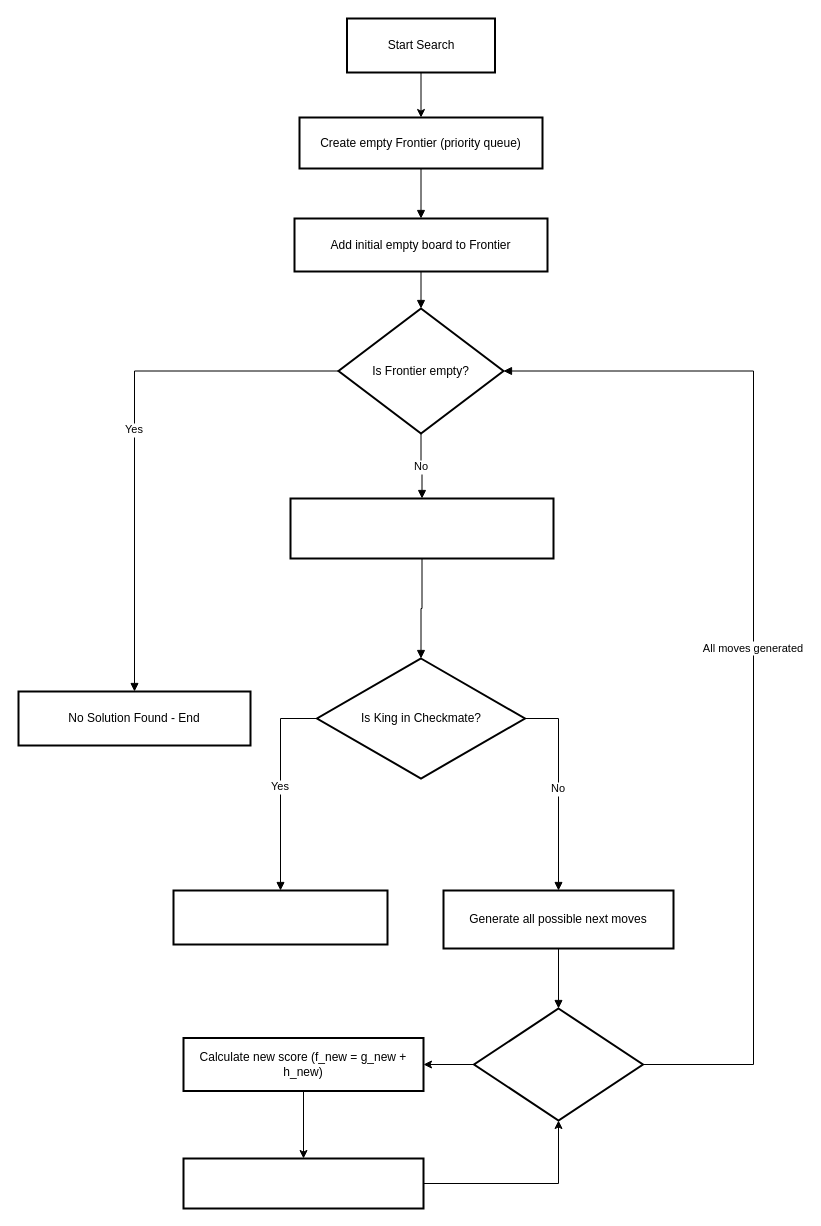
Some shapes in this 821 by 1226 pixel diagram are drawn without their labels. The centre of each missing label's shape, as x and y in pixels:
Add new board and score to Frontier: the point at 303,1183
For each new move: the point at 558,1064
Pick board with best score (f=g+h) from Frontier: the point at 421,528
Solution Found! - End: the point at 280,917
